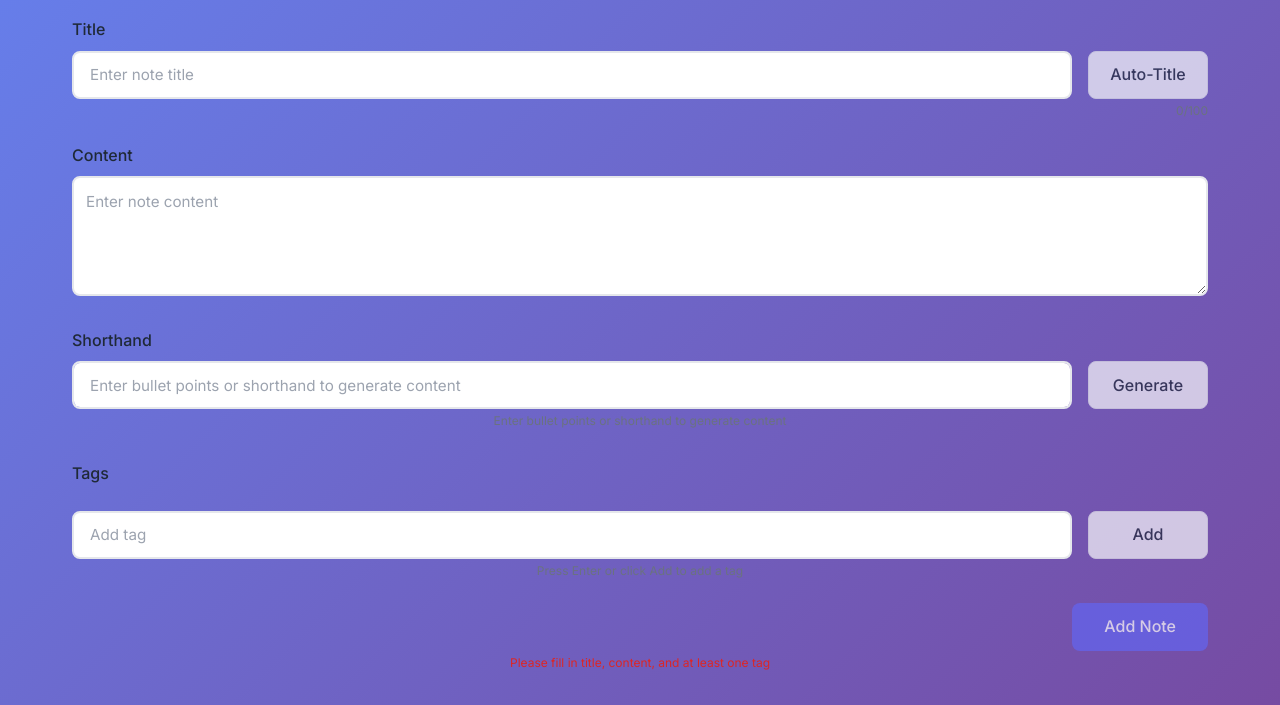
it: NoteForm Tag Validation › should enable submit button when tags are added
Note: Fill all required fields including tags
Type "Test Title" into the field with placeholder "Enter note title" at (572, 75), box 72,51 -> 1072,99
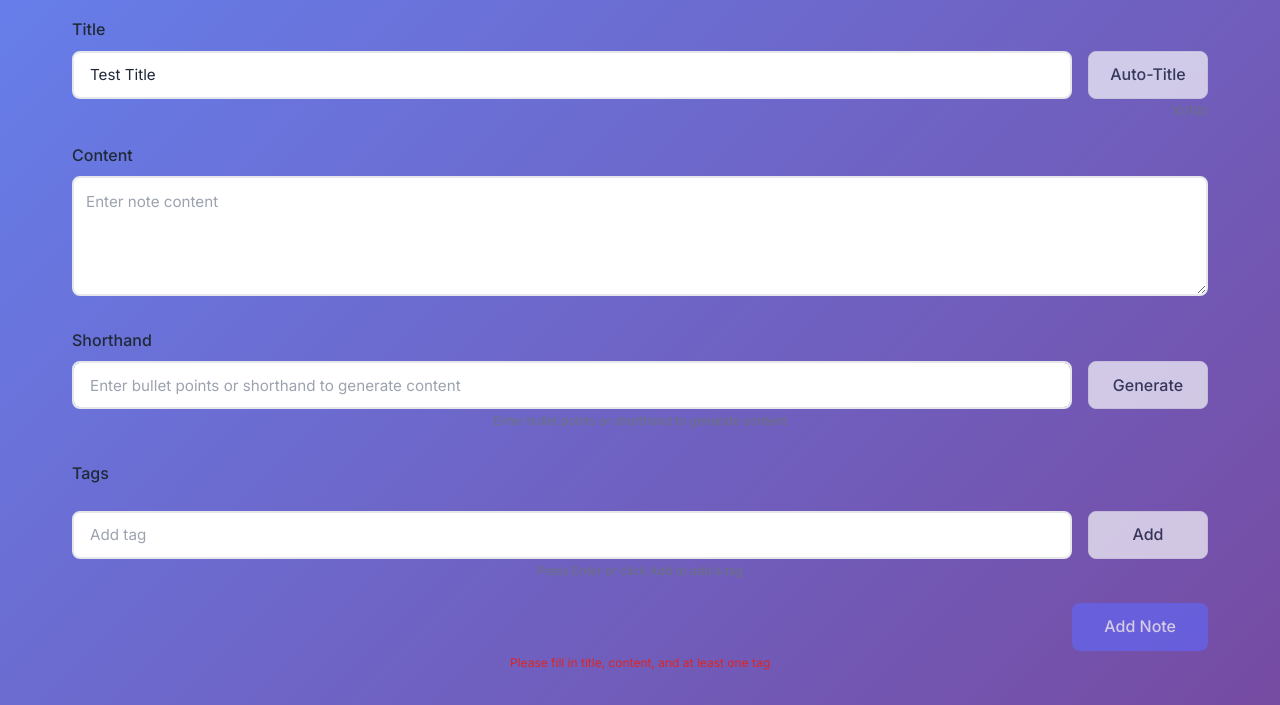
Type "Test Content" into the text box with placeholder "Enter note content" at (640, 236), box 72,176 -> 1208,296
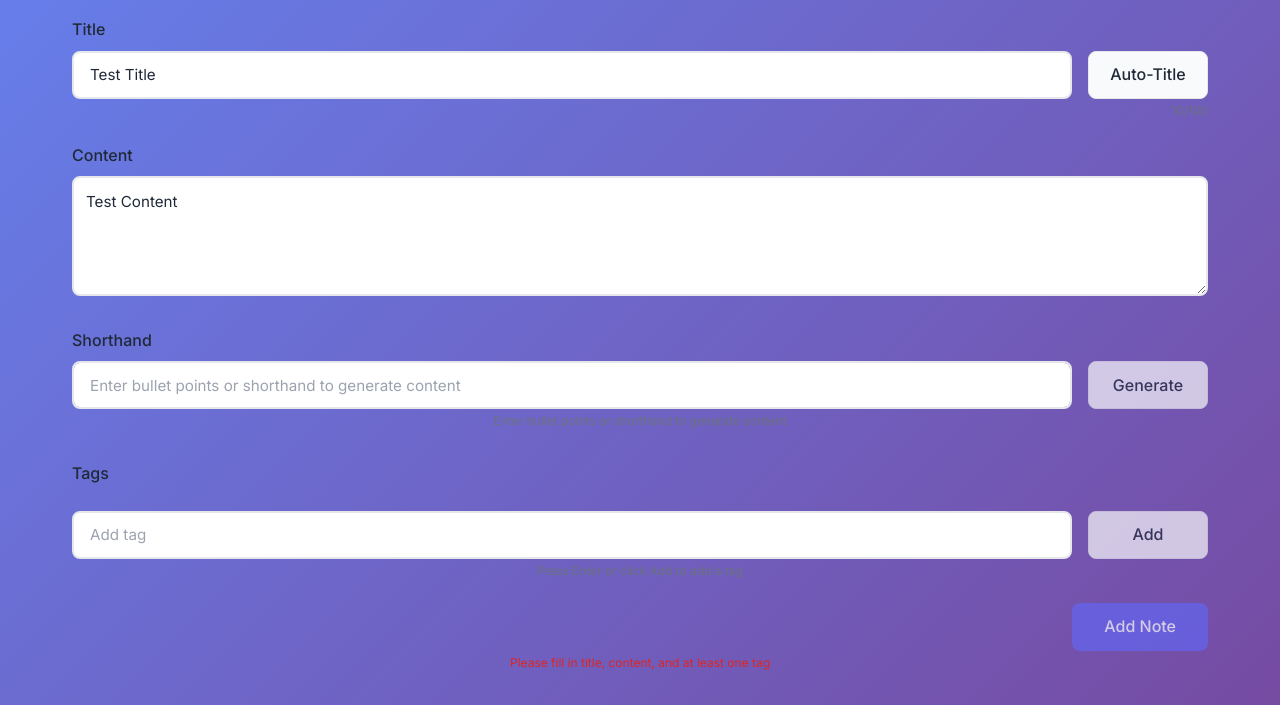
Note: Add a tag
Type "test-tag" into the field with placeholder "Add tag" at (572, 535), box 72,511 -> 1072,559
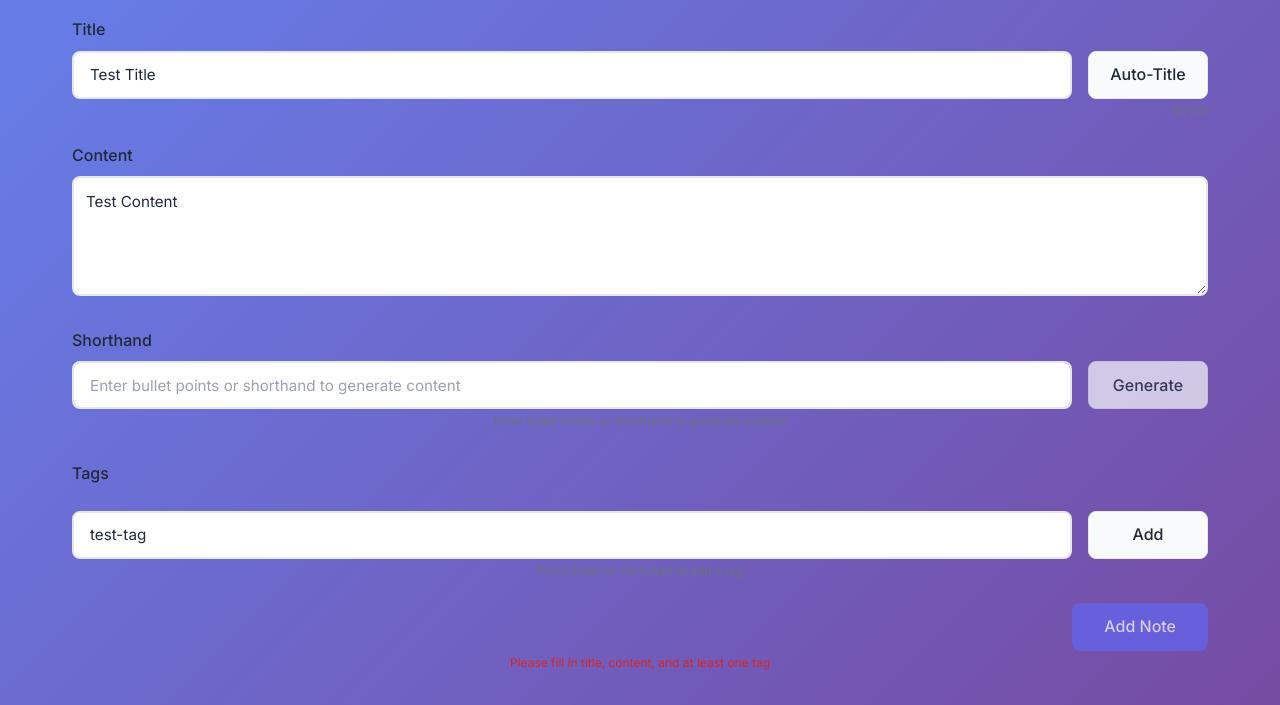
Press Enter in the field with placeholder "Add tag", box 72,511 -> 1072,559
(page scrolled)
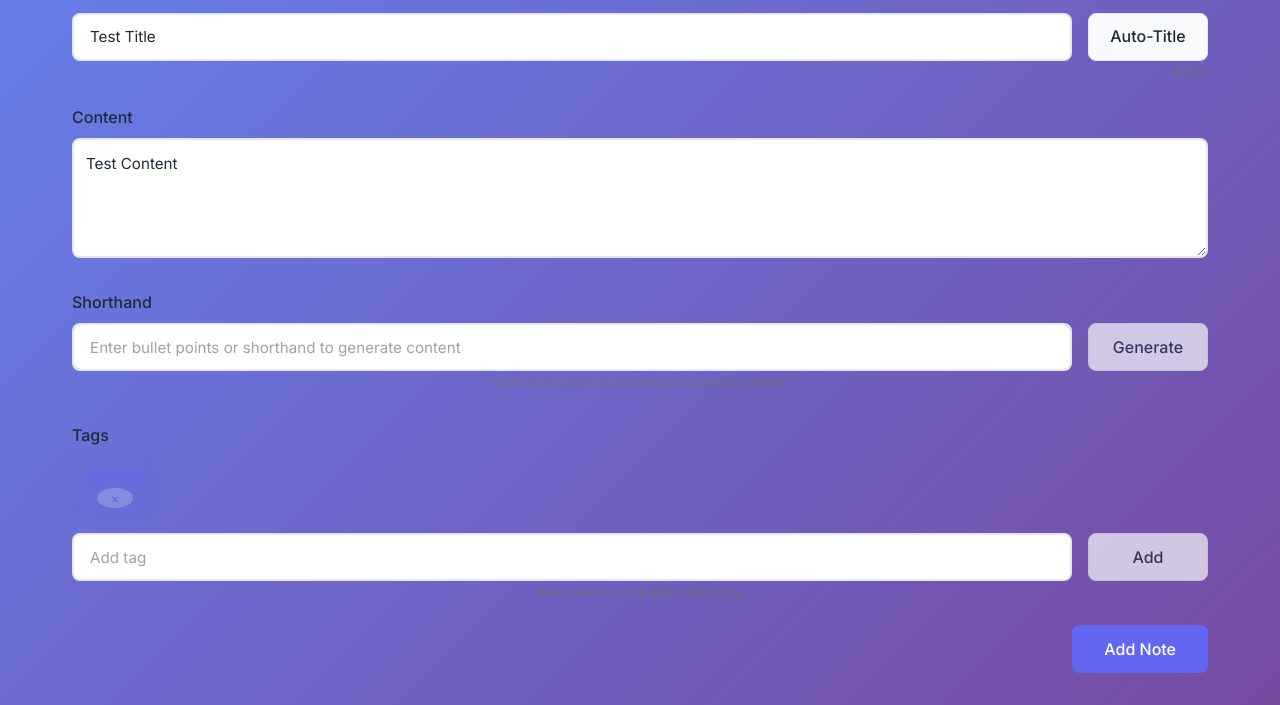
Expected: the button "Add Note" is enabled, 1072,625 -> 1208,673
